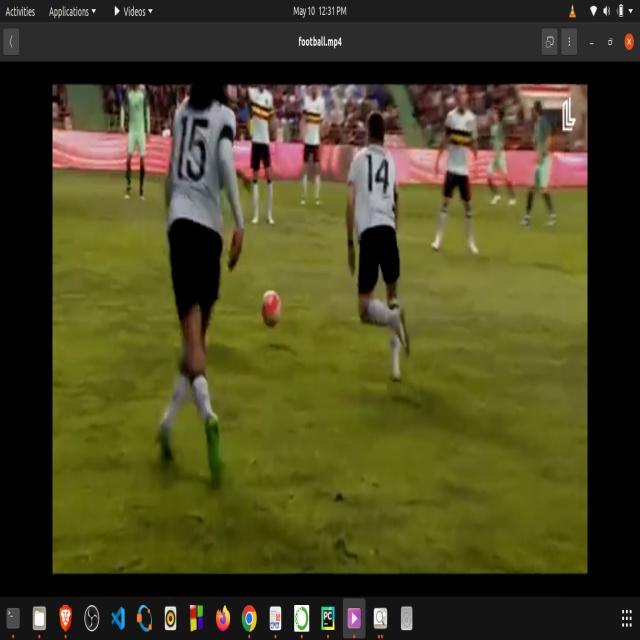Ball: (258, 285, 288, 336)
football-players: (153, 86, 247, 490), (340, 110, 419, 386), (432, 88, 484, 268), (241, 87, 290, 235), (523, 91, 564, 242), (116, 85, 154, 204), (298, 88, 332, 218), (487, 104, 519, 216)
